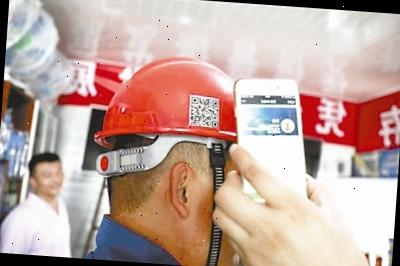helmet: (90, 51, 254, 164)
